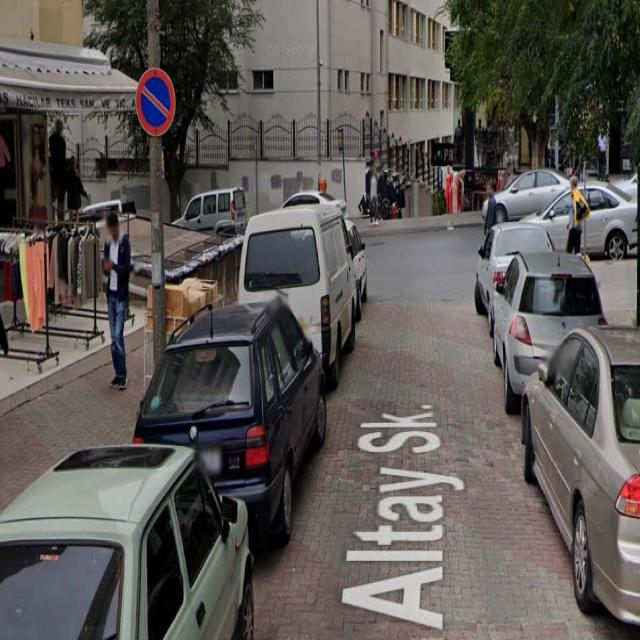parkyasak: (135, 68, 176, 134)
